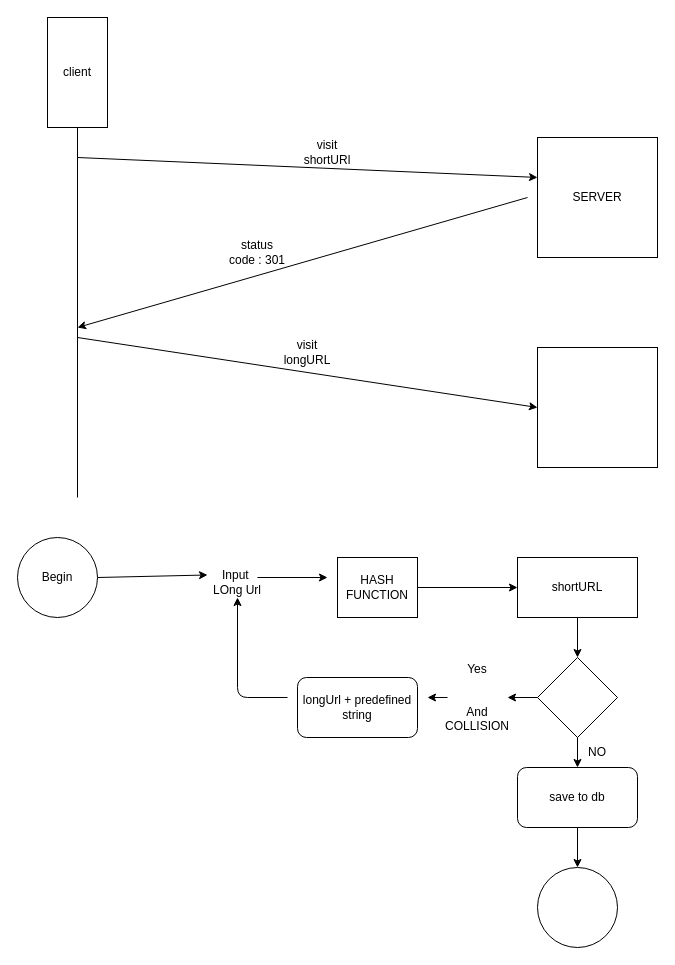
The diagram is 675 pixels wide and 965 high, and some of its shapes have lost their labels. Here are the shapes that lost their labels. From the top down, the centre of each, then its label:
the point at 597,407: DESTINATION
the point at 577,697: exsists in db
the point at 577,907: End
